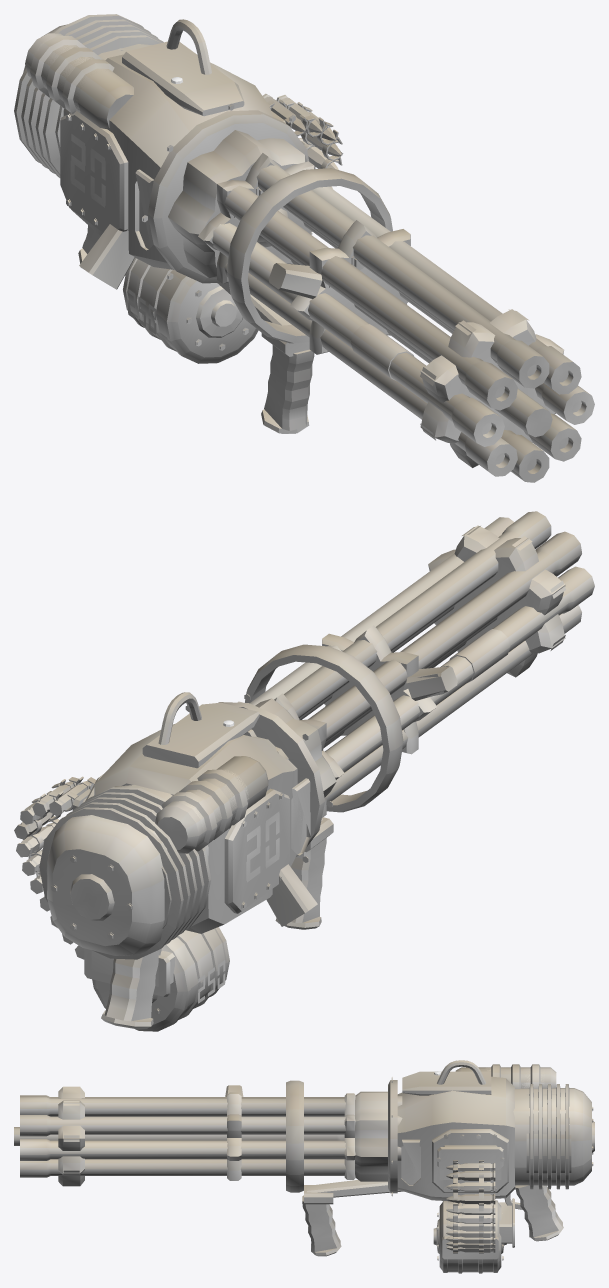
Rendered from minigun-h.glb.
3 renders of one model, top to bottom at view 1: azimuth 30°, elevation 25°; view 2: azimuth 150°, elevation 25°; view 3: azimuth 270°, elevation 25°, orthographic. The views are drawn at different scales.
Parts seen in each view (by area): view 1: Body, Spin; view 2: Body, Spin; view 3: Body, Spin.
Boxes of the visible parts, x1=… form: Body: x1=14, y1=14, x2=392, y2=433; Spin: x1=168, y1=130, x2=594, y2=482; Body: x1=14, y1=644, x2=403, y2=1031; Spin: x1=237, y1=511, x2=594, y2=817; Body: x1=286, y1=1060, x2=594, y2=1273; Spin: x1=14, y1=1085, x2=402, y2=1186.
Bounding box in the file's own units: 1.04 × 1.24 × 3.17.
